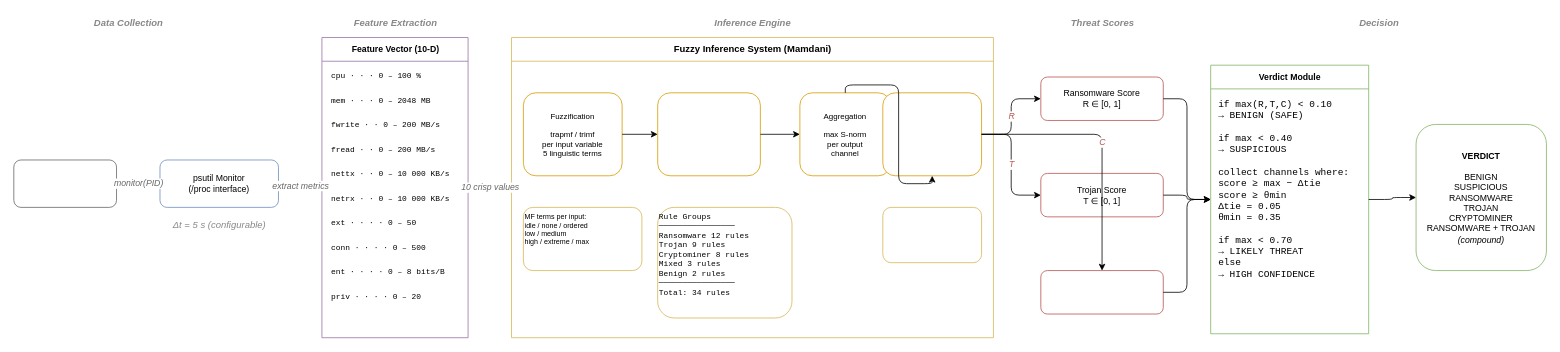
This 1560x352 diagram has some shape labels left out. Here are the shapes that lost their labels. From the top down, the centre of each, then its label:
At point 708,134: "Rule Evaluation 34 Mamdani rules AND → min T-norm firing strength α".
At point 932,134: "Defuzzification Centroid (CoG) y* = ∫y·μ / ∫μ over [0, 1]".
At point 65,183: "Target Process (PID)".
At point 932,235: "3 independent output channels: R, T, C ∈ [0, 1]".
At point 1101,292: "Cryptominer Score C ∈ [0, 1]".
